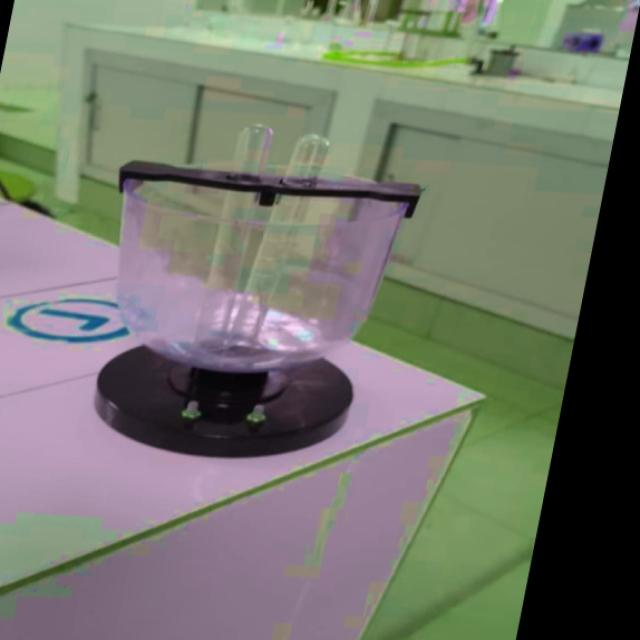Electrolyzer: (33, 111, 446, 473)
